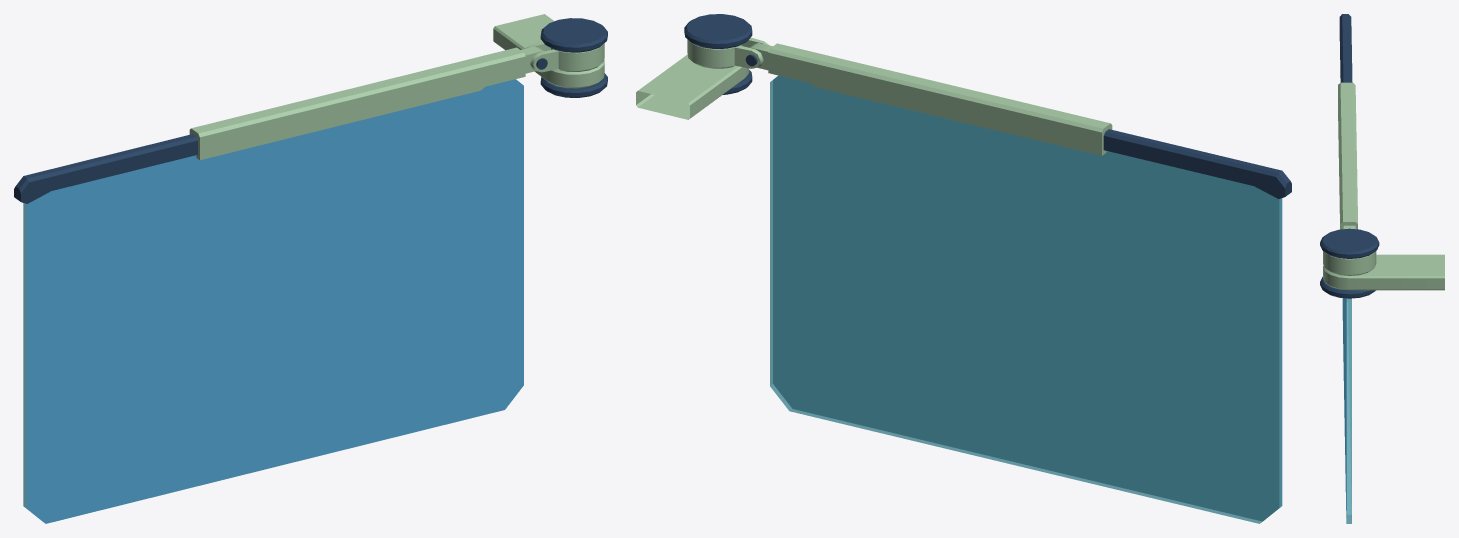
File: Misc_CyberScreenWall_B.fbx
3 views of the same model, side by side, from view 1: azimuth 30°, elevation 25°; view 2: azimuth 150°, elevation 25°; view 3: azimuth 270°, elevation 25° (orthographic). The views are drawn at different scales.
Parts seen in each view (by area): view 1: Misc_CyberScreenWall_B.001; view 2: Misc_CyberScreenWall_B.001; view 3: Misc_CyberScreenWall_B.001.
Part boxes in pixels (x1=…): Misc_CyberScreenWall_B.001: x1=14, y1=14, x2=607, y2=523; Misc_CyberScreenWall_B.001: x1=636, y1=14, x2=1291, y2=523; Misc_CyberScreenWall_B.001: x1=1320, y1=14, x2=1444, y2=523.
Bounding box in the file's own units: 0.5417 × 0.3165 × 0.1139.
